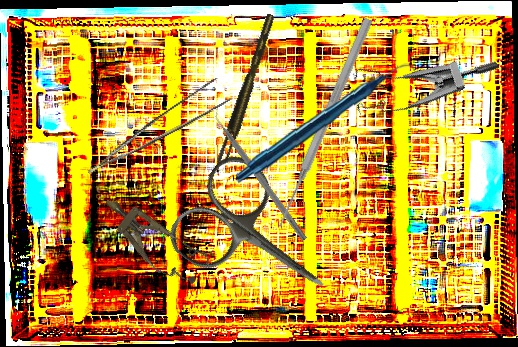Chopper: (208, 103, 315, 242)
Handpiece: (235, 57, 415, 190)
Iris Scissors: (161, 147, 356, 334)
Pusher: (273, 16, 375, 230)
Speculum: (340, 7, 500, 141), (92, 183, 214, 294)
Tissue Forceps: (75, 74, 238, 175), (211, 13, 283, 166)
